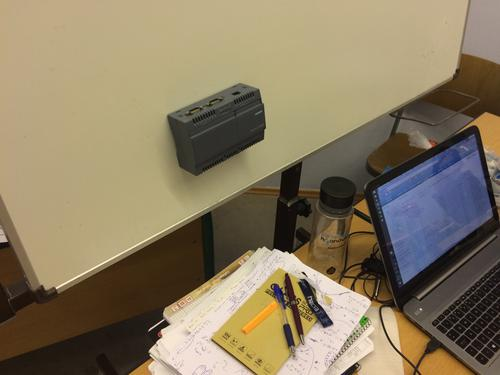iot2000: (167, 83, 268, 178)
